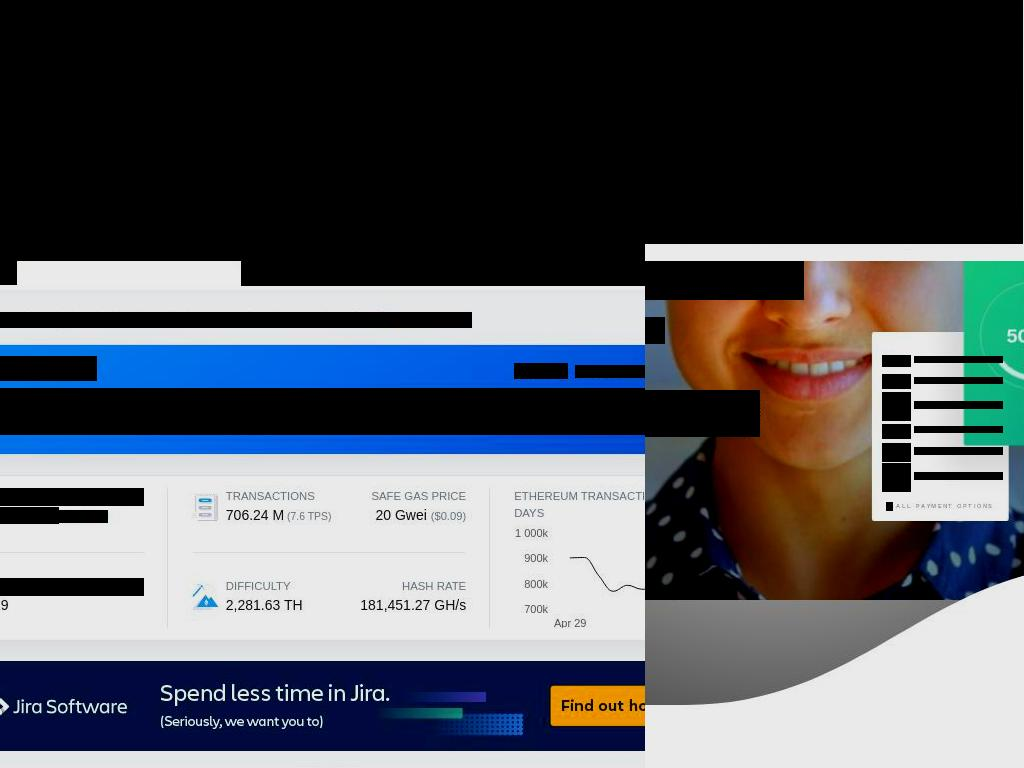button: (0, 0, 645, 261), (645, 390, 760, 437), (645, 215, 1007, 229), (292, 261, 401, 286), (486, 261, 594, 286), (400, 261, 487, 286), (241, 261, 293, 286), (593, 261, 645, 286), (575, 365, 645, 378)
field: (0, 388, 645, 435)
heading: (645, 91, 1007, 157), (514, 488, 645, 523), (225, 488, 372, 506), (0, 488, 144, 506), (0, 578, 144, 596), (225, 578, 361, 596), (0, 356, 97, 381), (360, 578, 467, 596), (371, 488, 467, 506)
iframe: (0, 661, 645, 752)
image: (645, 0, 1023, 244), (514, 522, 645, 629), (882, 392, 911, 421), (882, 463, 911, 492), (191, 494, 218, 521), (191, 584, 218, 611), (914, 401, 1003, 409), (914, 447, 1003, 455), (914, 472, 1003, 480), (914, 356, 1003, 363), (914, 377, 1003, 384), (914, 426, 1003, 433), (633, 188, 645, 236), (882, 443, 911, 462), (882, 374, 911, 389), (882, 424, 911, 439), (882, 355, 911, 367)
link: (380, 312, 472, 328), (225, 597, 303, 614), (225, 507, 284, 524)
text: (645, 165, 1007, 203), (0, 312, 356, 328), (360, 597, 432, 614), (645, 407, 719, 421), (892, 502, 1005, 511), (0, 507, 59, 524), (375, 507, 431, 524), (514, 363, 568, 379), (58, 510, 108, 523), (430, 597, 466, 614), (1005, 320, 1024, 351), (284, 511, 333, 523), (430, 510, 466, 523), (515, 527, 549, 540), (554, 617, 587, 630), (356, 312, 382, 328), (524, 603, 549, 616), (524, 578, 549, 591), (524, 552, 549, 565), (886, 502, 893, 511)
